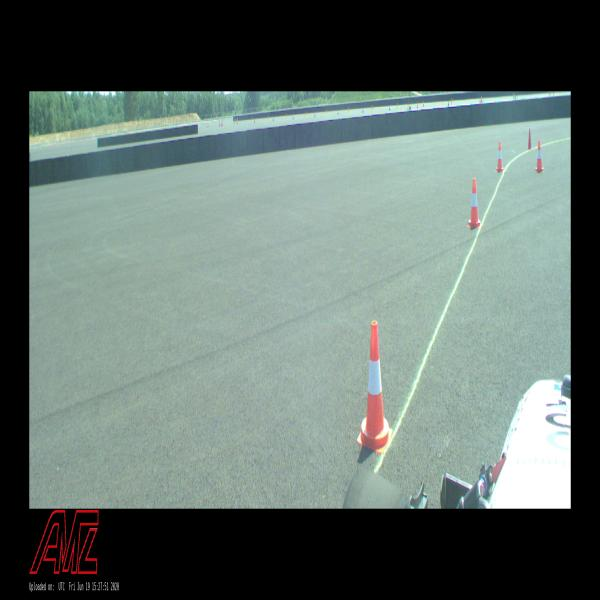orange_cone: (358, 321, 392, 454), (469, 179, 479, 228), (535, 140, 543, 172), (496, 142, 504, 172)
yellow_cone: (396, 102, 398, 109), (372, 105, 373, 111), (286, 113, 287, 119)
